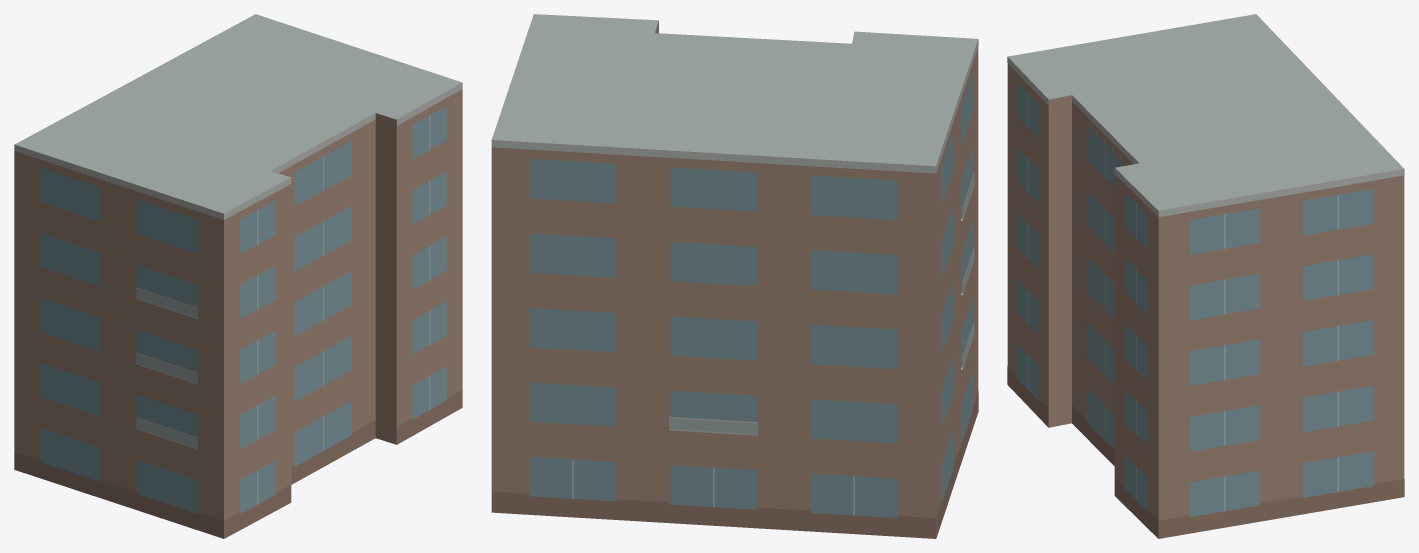
Rendered from survey-upis-32586045.glb.
3 views of the same model, side by side, from view 1: azimuth 30°, elevation 25°; view 2: azimuth 150°, elevation 25°; view 3: azimuth 270°, elevation 25° (orthographic). The views are drawn at different scales.
Visible parts, largest first — view 1: survey-upis-32586045.tmp; view 2: survey-upis-32586045.tmp; view 3: survey-upis-32586045.tmp.
Part boxes in pixels (<box>): survey-upis-32586045.tmp: <box>14,14,462,538</box>; survey-upis-32586045.tmp: <box>491,14,978,538</box>; survey-upis-32586045.tmp: <box>1007,14,1404,538</box>.
Bounding box in the file's own units: 15.96 × 12.4 × 13.61.
